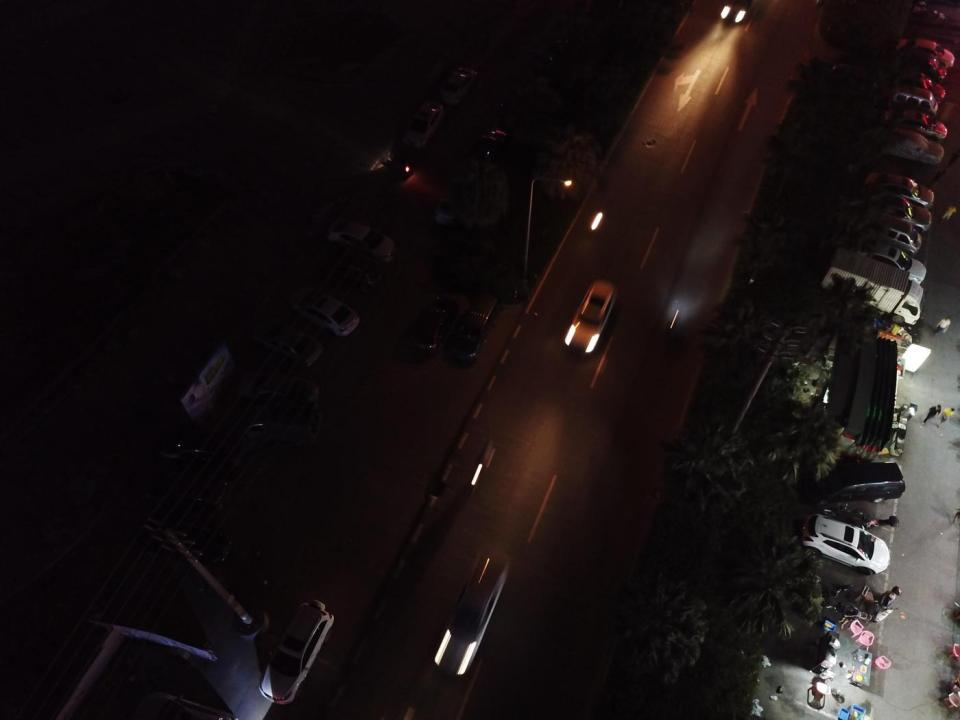car: (258, 599, 334, 705), (140, 453, 230, 518), (137, 509, 232, 570), (448, 550, 512, 640), (802, 512, 890, 576), (564, 278, 618, 356), (288, 282, 360, 337), (252, 315, 324, 367), (855, 238, 926, 287), (326, 217, 398, 264), (405, 295, 460, 356), (316, 244, 385, 288), (863, 170, 936, 210), (250, 372, 320, 413), (868, 192, 933, 232), (876, 128, 946, 164), (885, 107, 949, 143), (401, 101, 447, 149), (897, 36, 956, 68), (892, 68, 946, 100), (438, 65, 479, 106)
truck: (821, 246, 925, 326)
van: (808, 461, 905, 507), (449, 292, 502, 365), (242, 399, 322, 446), (871, 213, 924, 256), (899, 48, 947, 82), (892, 84, 939, 117)
